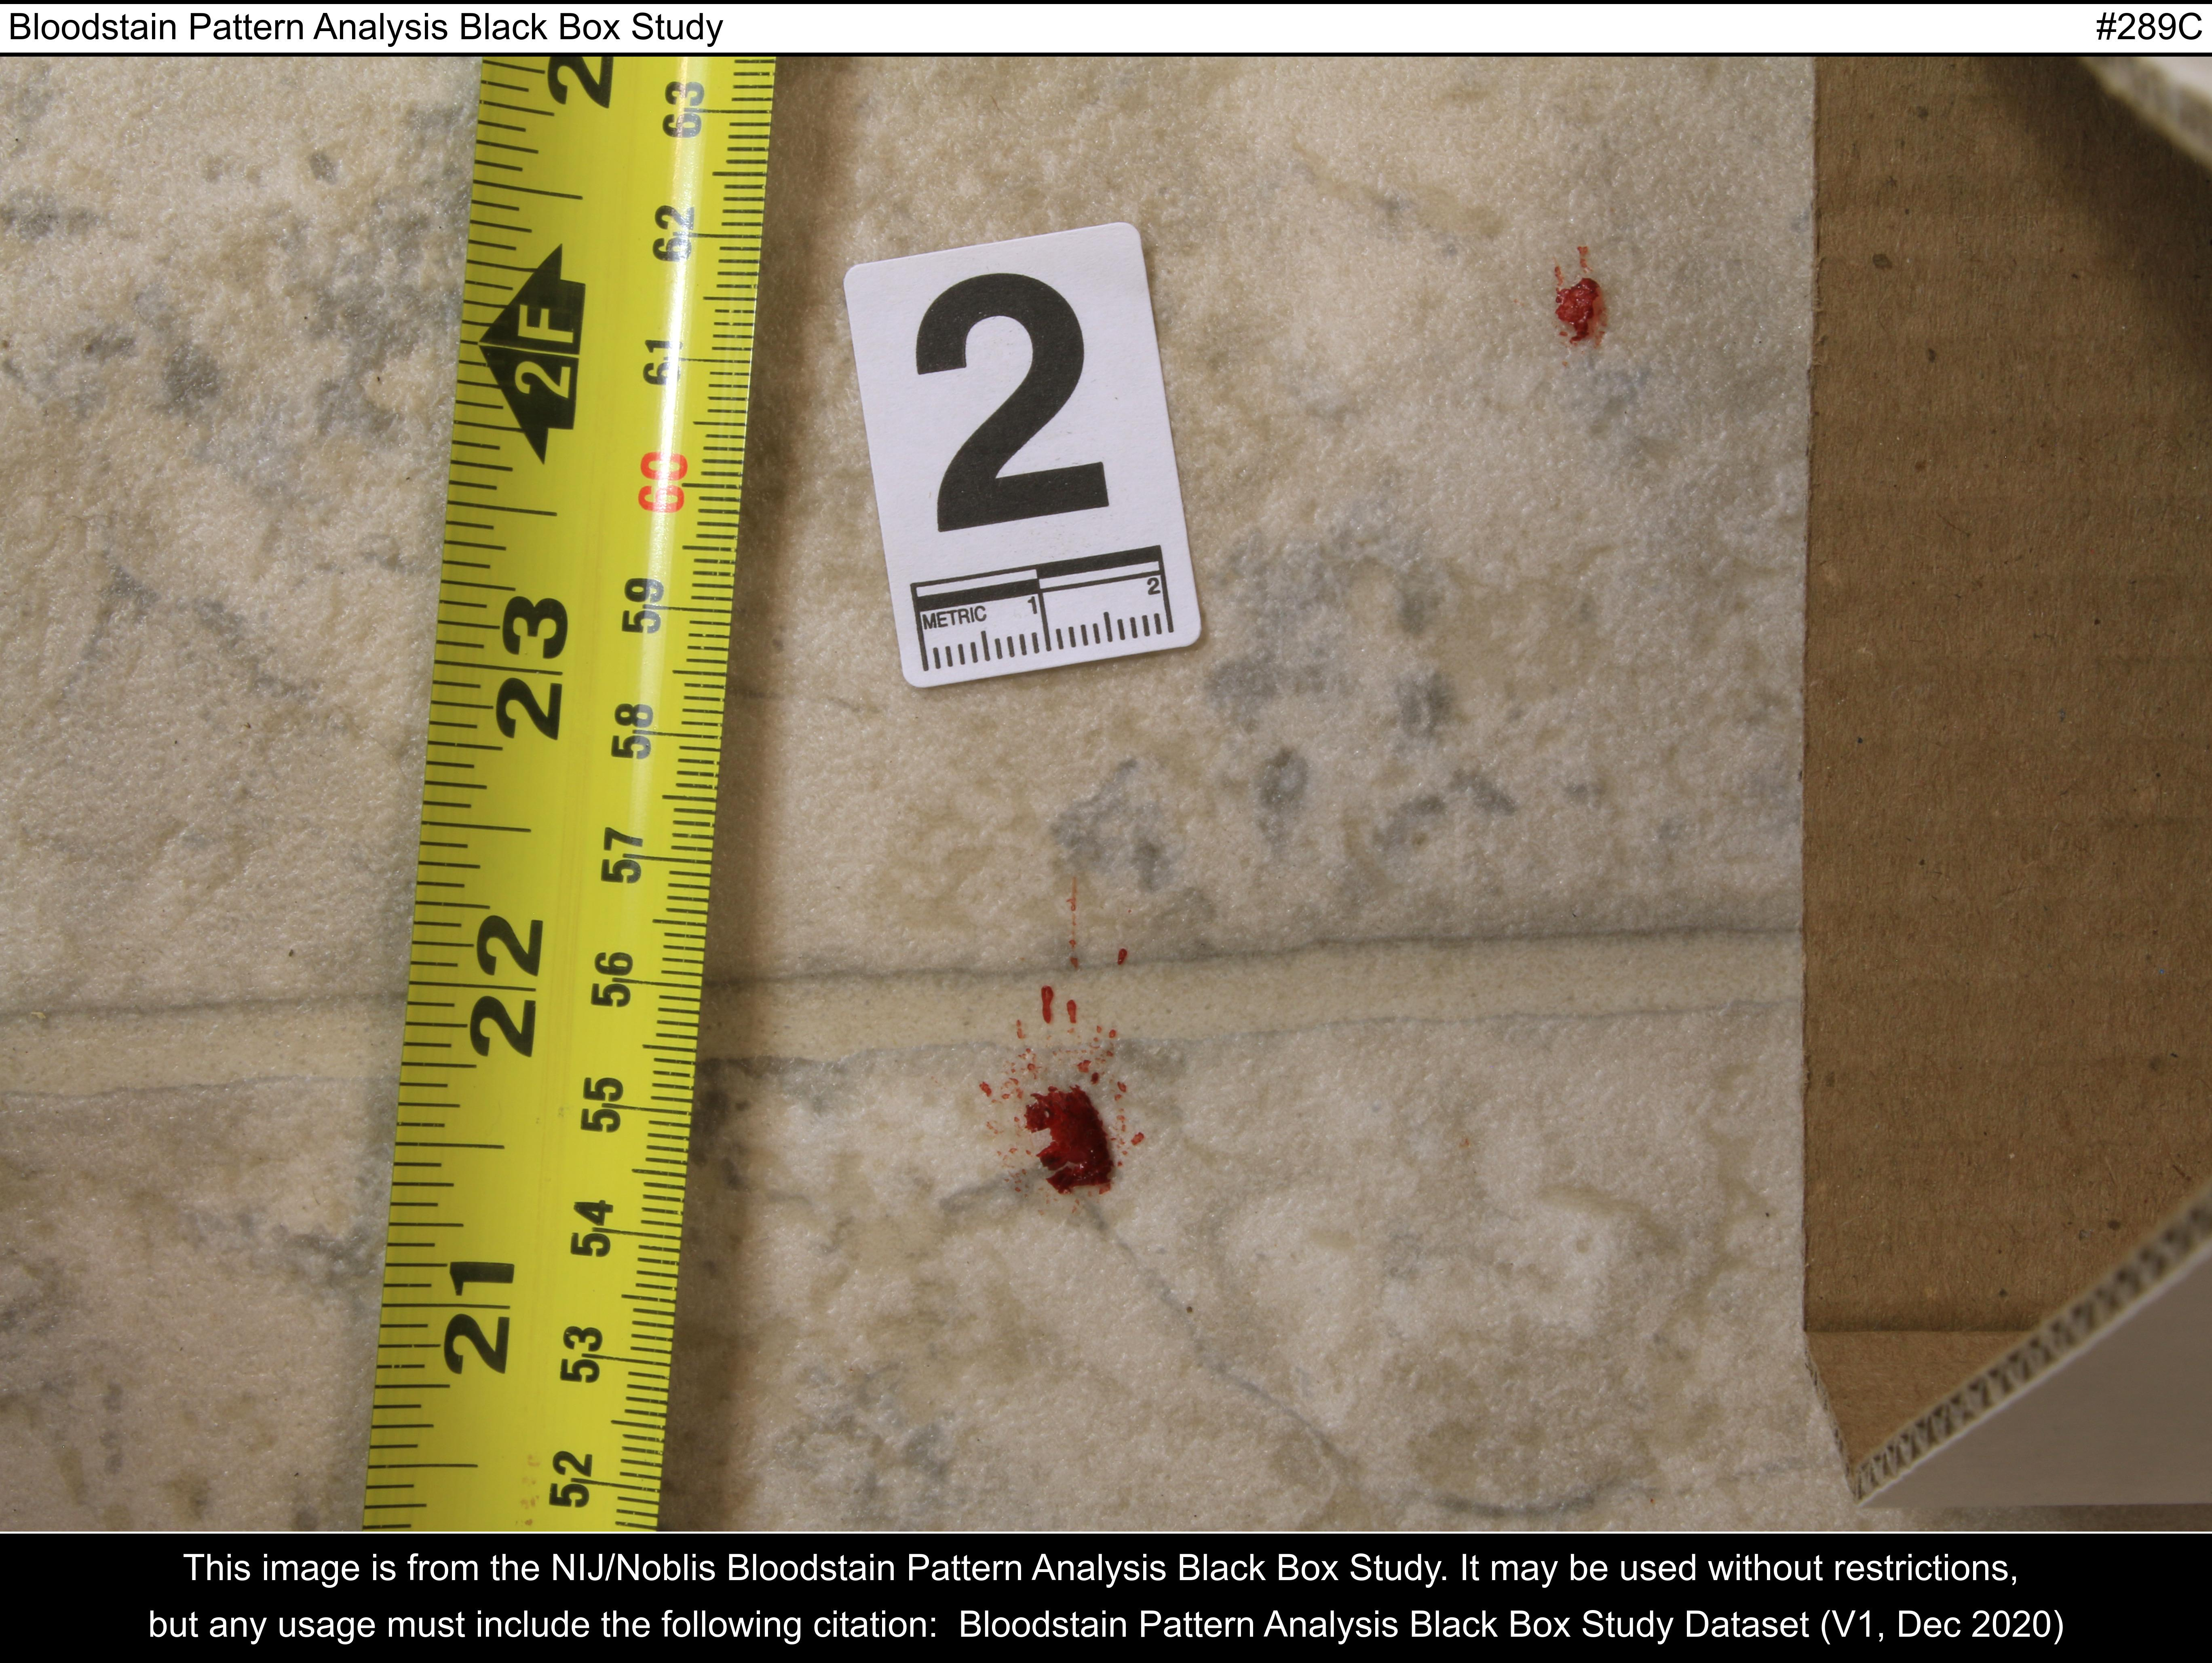Passive: (800, 157, 1721, 1342)
